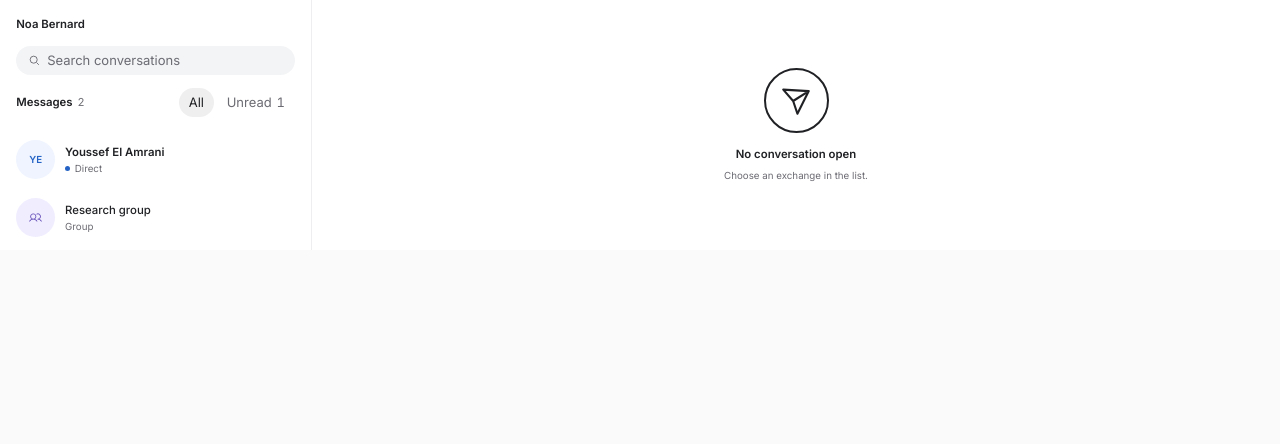
Scenario: messages page › inserts an emoji at the cursor without sending and closes the picker with Escape
Click the link "YE Youssef El Amrani Direct" at coordinates (90, 159), box [16,140,164,179]
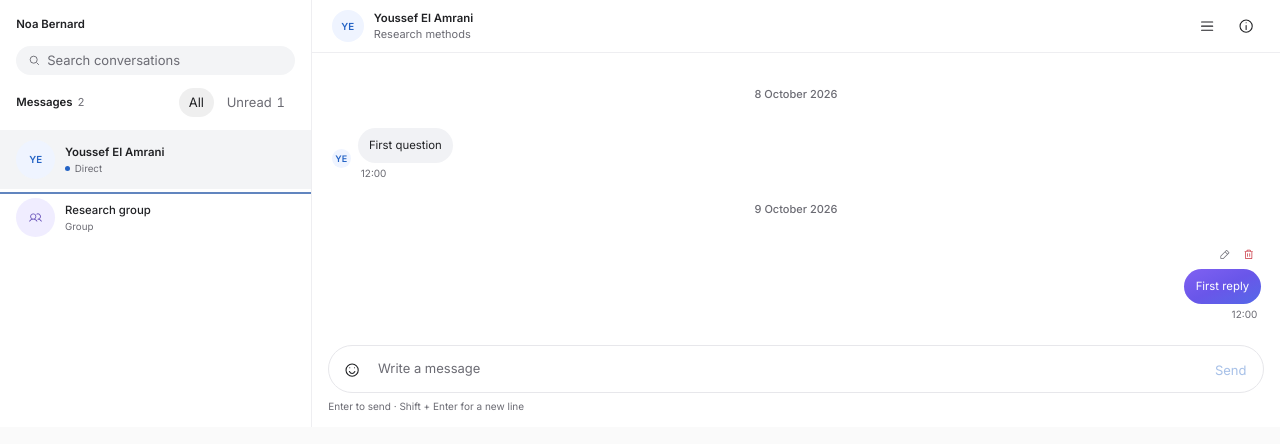
Type "A B" into the text box labelled "message" at coordinates (787, 369), box [372,351,1202,387]
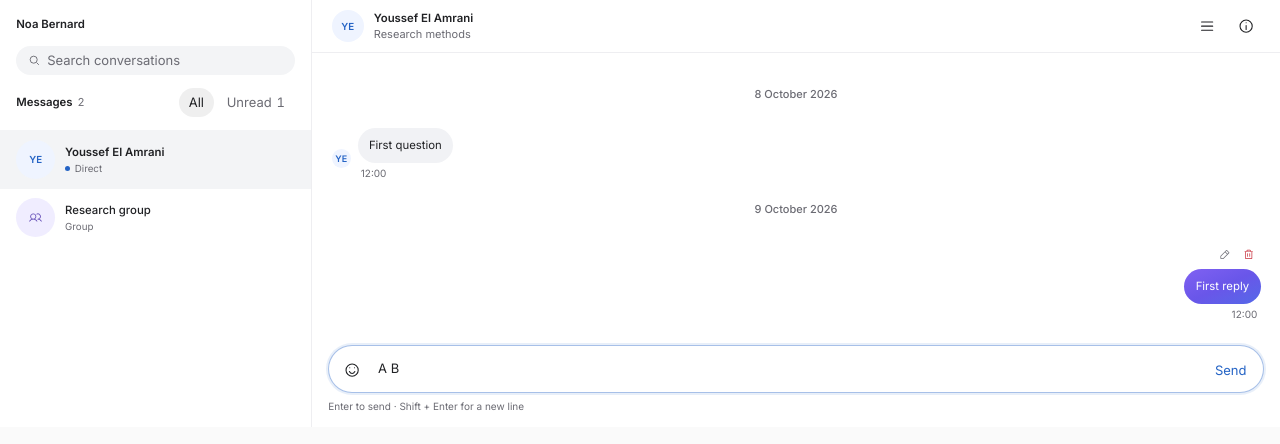
Click the button named "Emojis" at coordinates (352, 371), box [339,354,365,387]
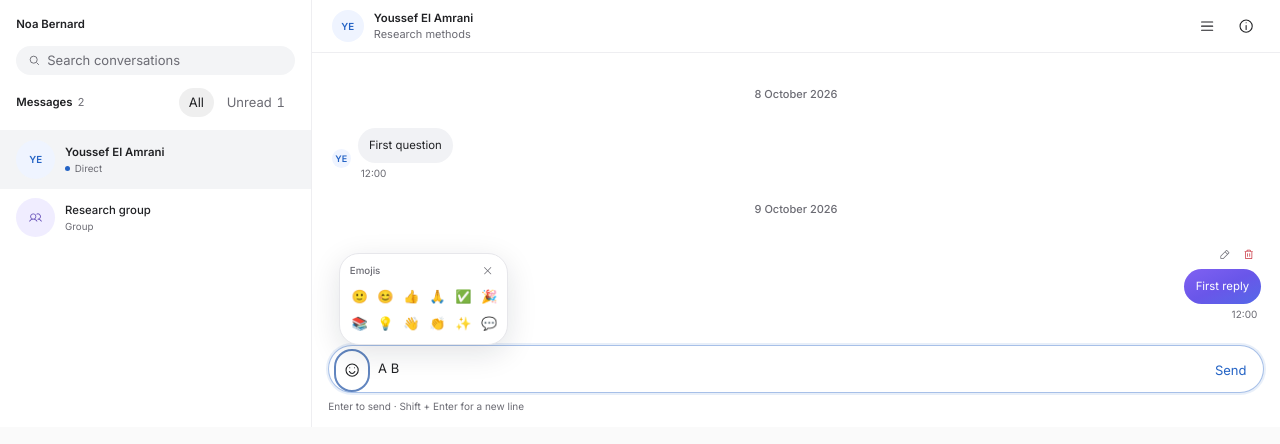
Click the button "🙂" at coordinates (360, 296), box [346,284,372,310]
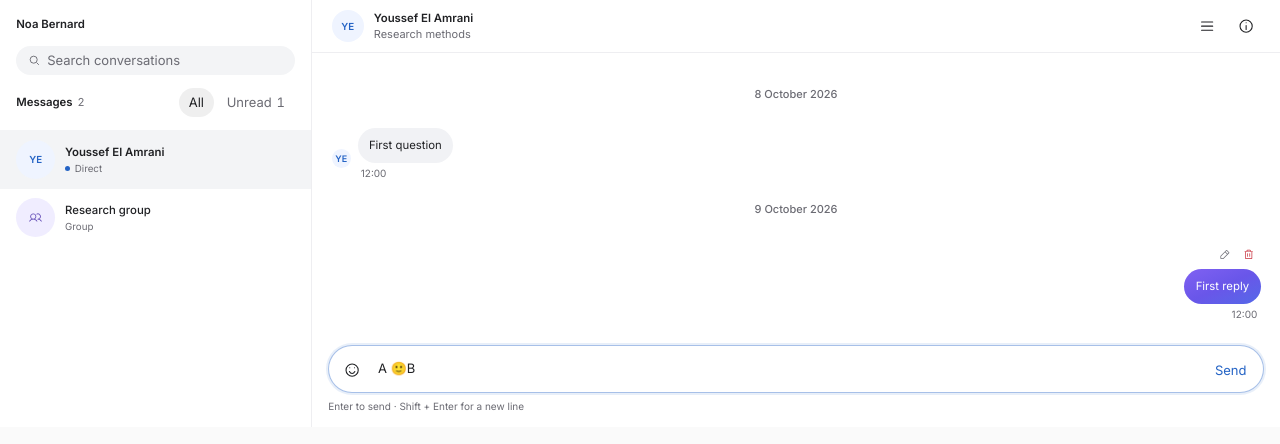
Expected: the text box named "message" holds "A 🙂B", [372,351,1202,387]
Expected: the text "Emojis" is gone
Click the button named "Emojis" at coordinates (352, 371), box [339,354,365,387]
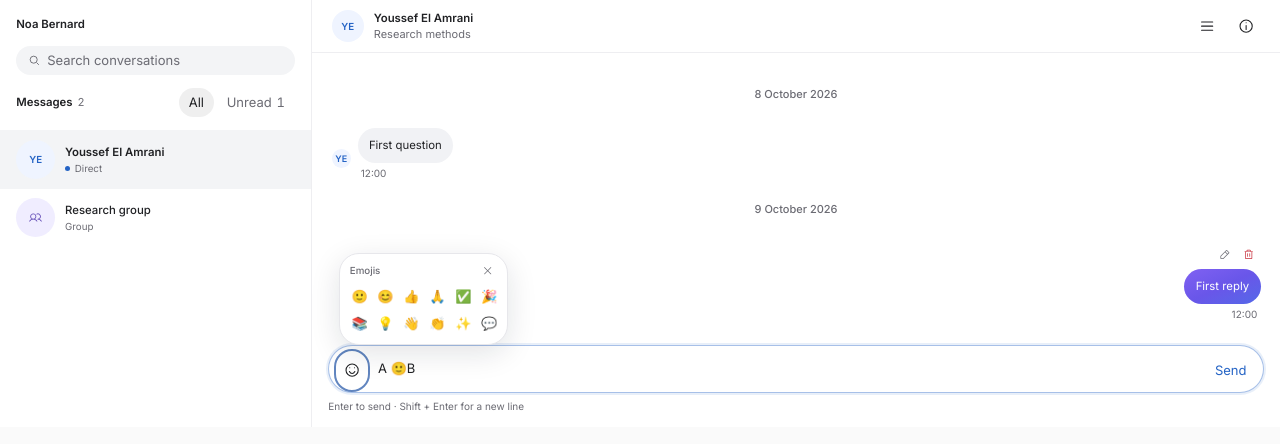
Press Escape
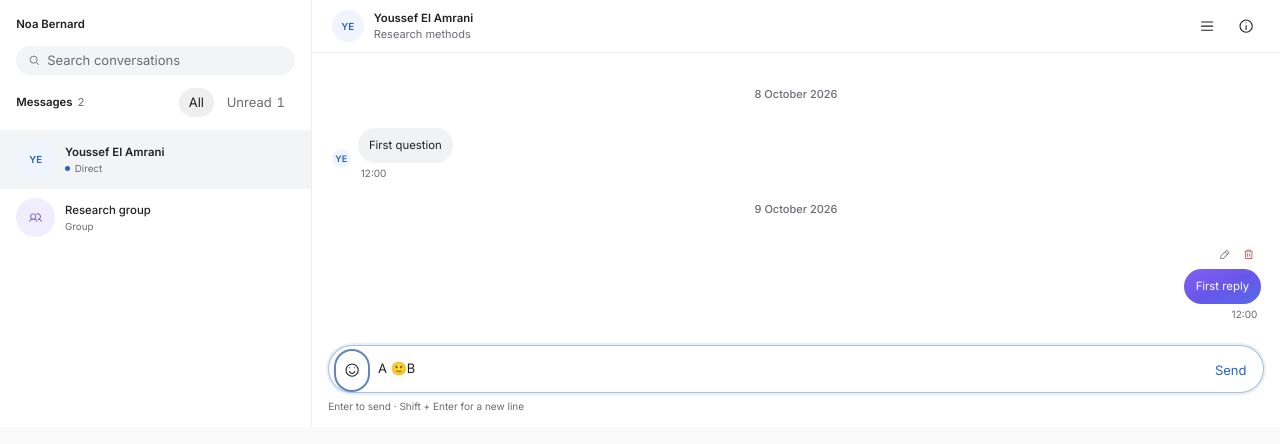
Expected: the text "Emojis" is gone
